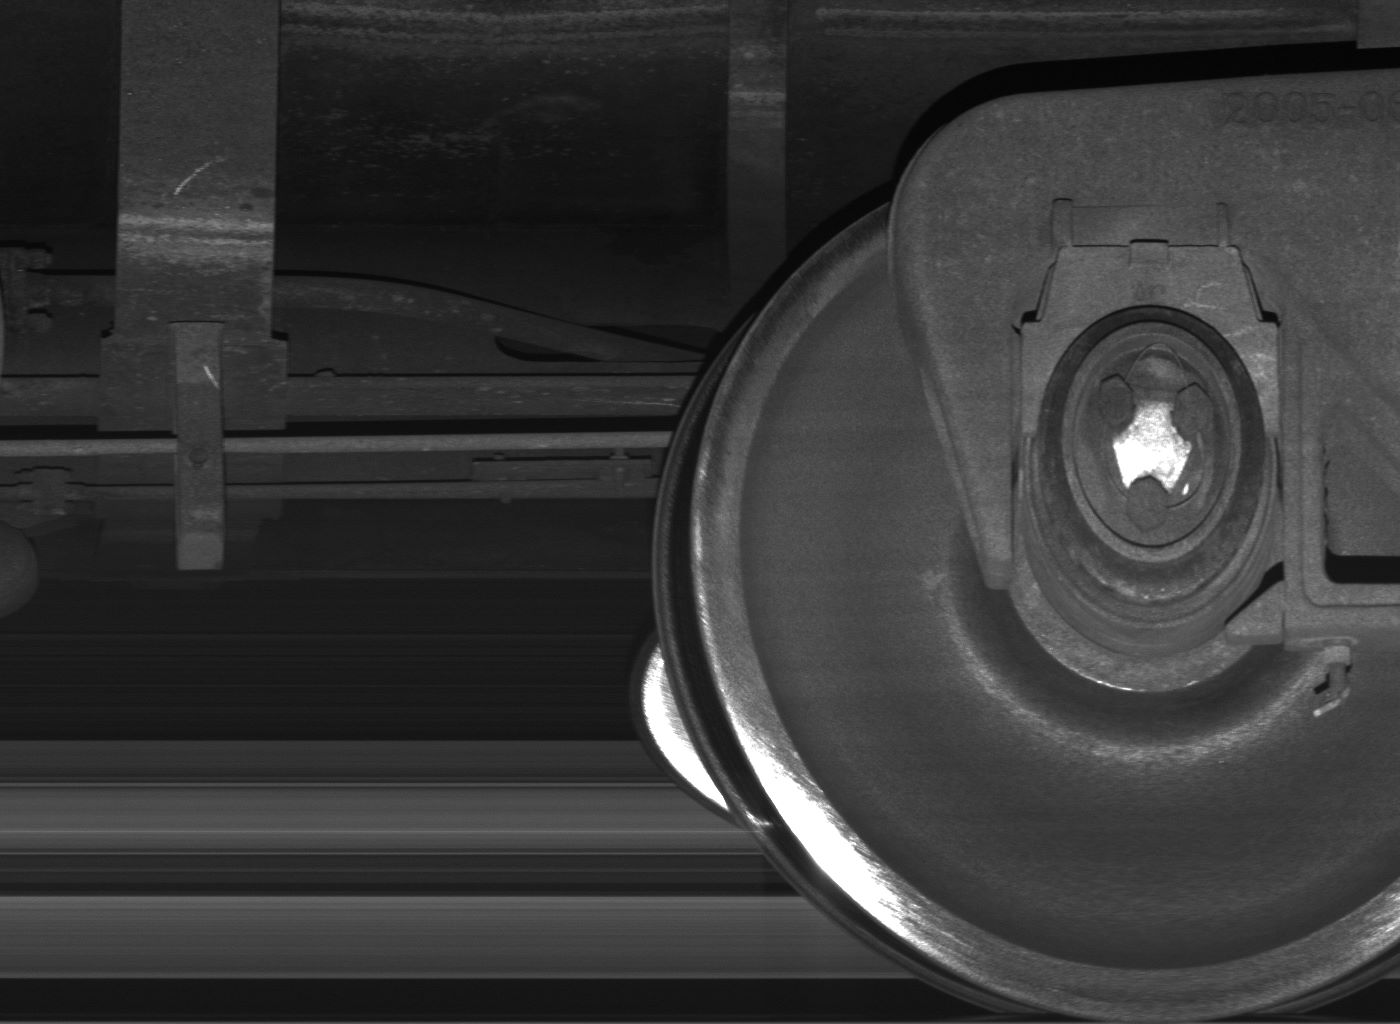normal: (171, 321, 225, 571)
